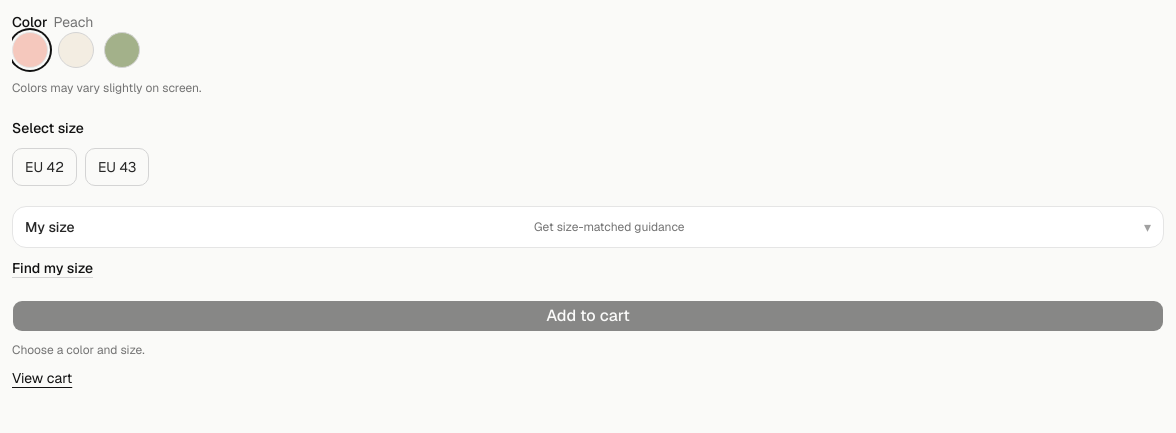
Scenario: ProductActions 由 Python 变体驱动选择 › 使用显式 EU 尺码体系生成 Python 尺码标签
Check: the 4th radio button labelled "EU 43" is shown, box [85, 148, 149, 186]
Click the 4th radio button labelled "EU 42".
click(44, 167)  # box [12, 148, 77, 186]
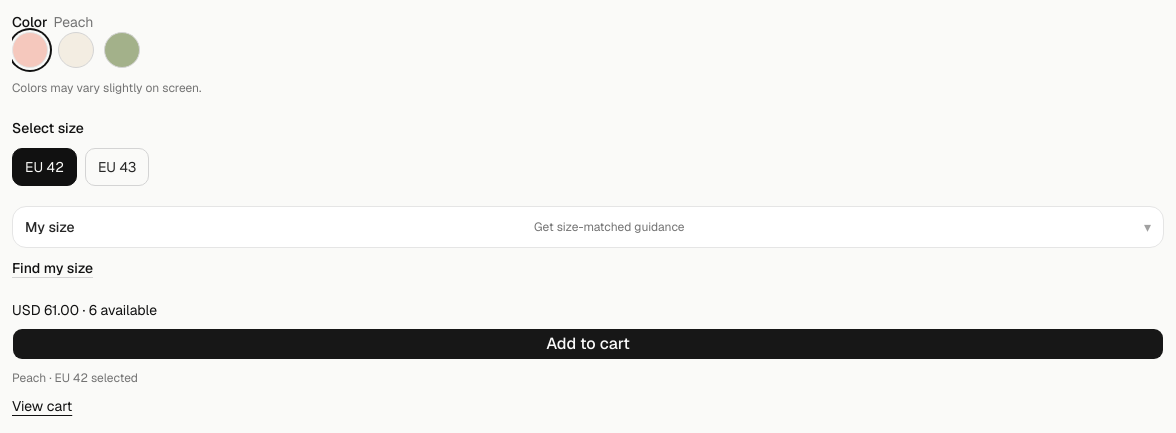
Check: the message shows "EU 42", box [12, 370, 138, 386]
Check: the text "USD 61.00 · 6 available" is shown, box [12, 301, 157, 319]
